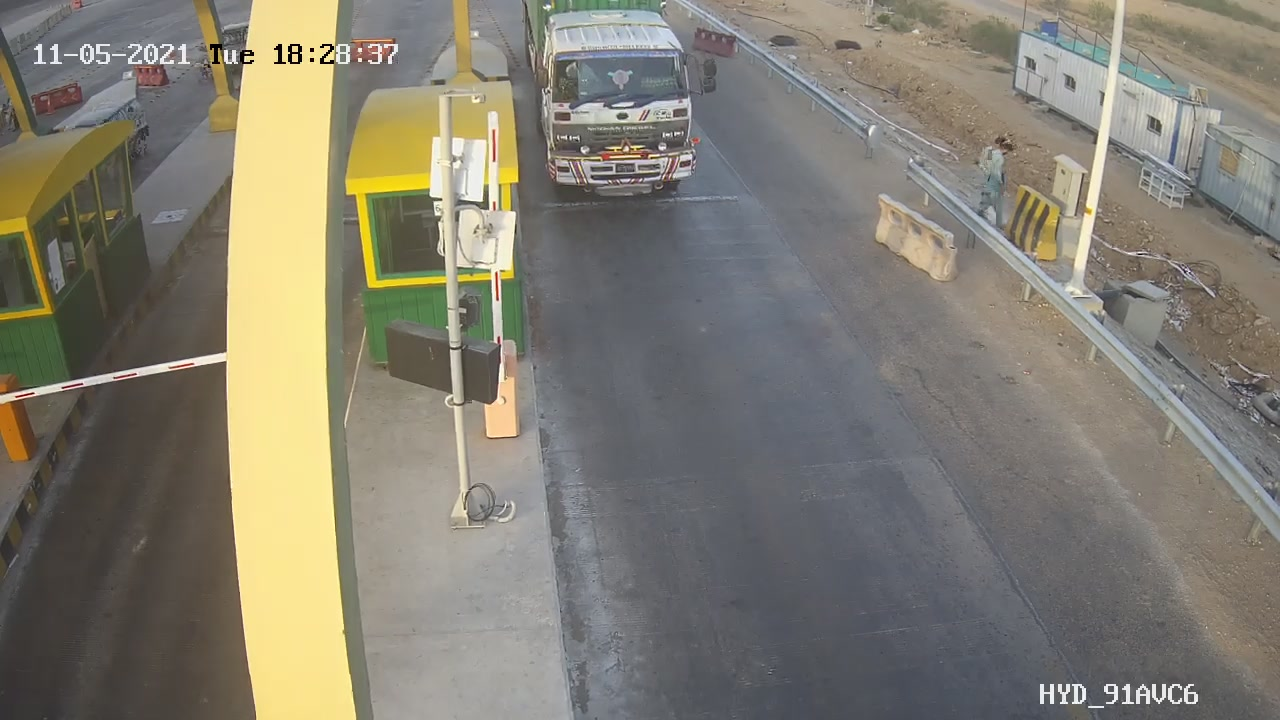F6: (523, 1, 716, 204)
